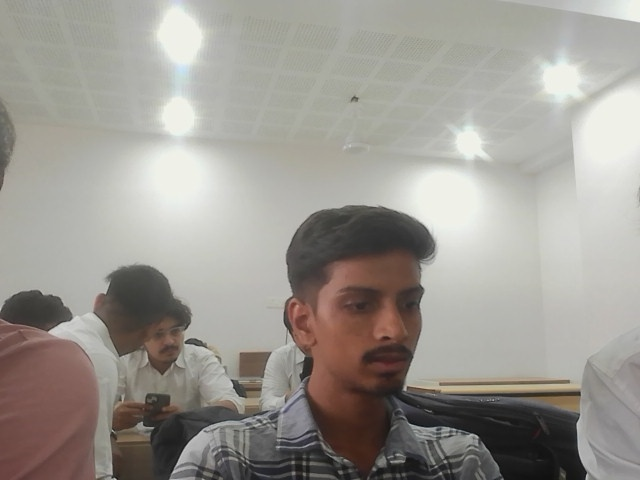fan_on: (340, 95, 370, 155)
light_on: (134, 10, 206, 149), (436, 125, 490, 166), (536, 62, 575, 95)
person: (163, 204, 508, 479), (0, 95, 99, 480), (46, 260, 171, 479), (111, 294, 244, 427), (0, 299, 96, 479), (576, 320, 639, 479)
